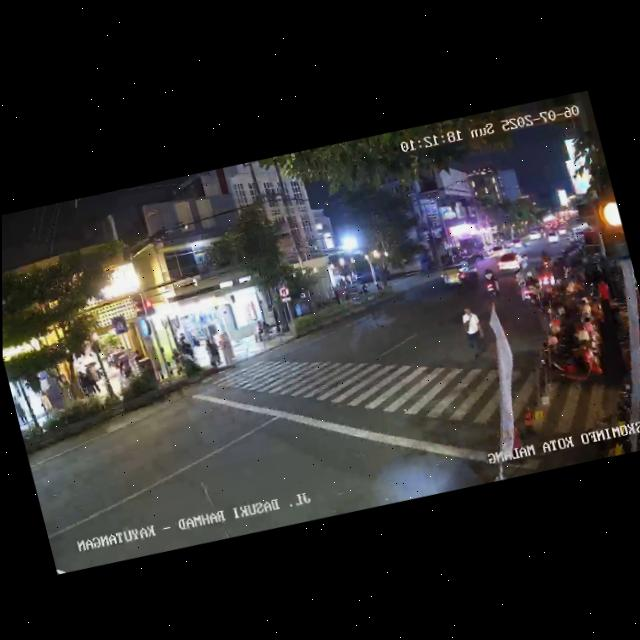car: (437, 257, 481, 291), (490, 245, 526, 277)
motorcycle: (510, 262, 543, 307), (480, 267, 503, 299)
person: (455, 300, 494, 361), (217, 328, 237, 366), (202, 333, 222, 370), (85, 363, 102, 398), (76, 366, 93, 399), (37, 389, 53, 421), (12, 396, 28, 427)
